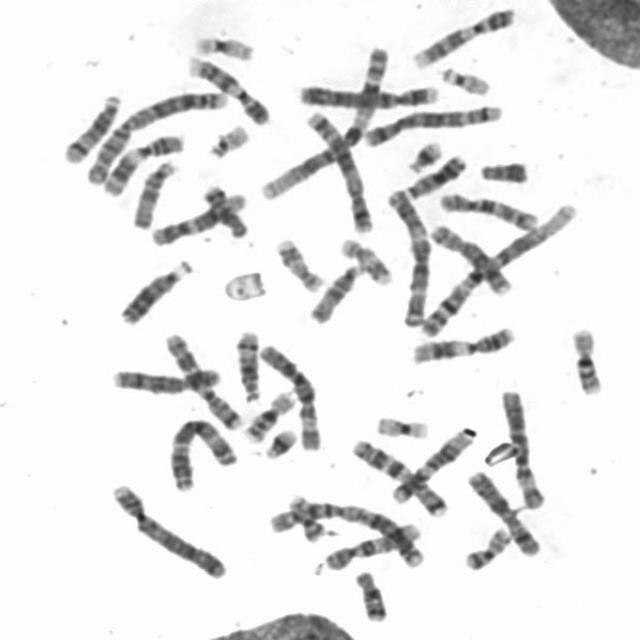A1: (414, 194, 580, 338), (252, 39, 392, 202)
A2: (79, 83, 230, 191), (268, 491, 428, 568)
A3: (379, 182, 433, 329), (162, 410, 240, 492)
B4: (103, 476, 229, 582), (290, 75, 441, 111)
B5: (298, 101, 376, 234), (357, 96, 508, 148)
C10: (317, 515, 424, 572), (432, 184, 542, 232)
C11: (96, 126, 188, 198), (403, 319, 518, 365)
C12: (383, 422, 476, 504), (143, 184, 250, 247)
C6: (253, 336, 324, 453), (492, 381, 549, 511)
C7: (156, 325, 245, 432), (346, 432, 450, 520)
C8: (423, 216, 515, 298), (104, 360, 225, 396)
C9: (406, 0, 518, 69), (180, 48, 272, 126)
D13: (111, 252, 195, 327), (394, 146, 469, 201)
D14: (56, 86, 124, 166), (228, 323, 264, 403)
D15: (303, 257, 366, 325), (125, 153, 179, 230)
E16: (238, 384, 298, 444), (564, 319, 607, 397)
E17: (333, 230, 395, 287), (269, 230, 325, 293)
E18: (196, 177, 250, 239), (348, 563, 389, 623)
F19: (187, 27, 257, 62), (368, 408, 432, 440)
F20: (456, 519, 515, 572), (282, 487, 328, 542)
G21: (399, 132, 445, 175), (257, 421, 300, 460)
G22: (432, 59, 493, 97), (200, 117, 253, 159)
X: (461, 463, 545, 558)
Y: (472, 153, 531, 185)
